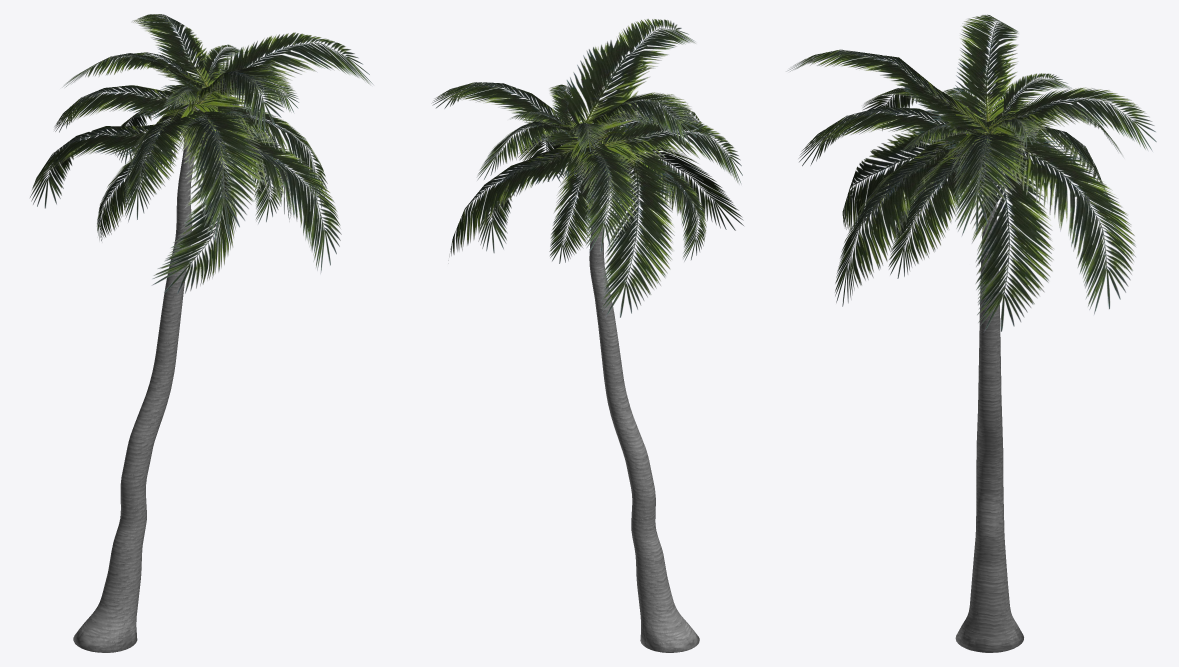
File: palm_tall.glb
3 views of the same model, side by side, from view 1: azimuth 30°, elevation 25°; view 2: azimuth 150°, elevation 25°; view 3: azimuth 270°, elevation 25° (orthographic). The views are drawn at different scales.
Visible parts, largest first — view 1: Cylinder001; view 2: Cylinder001; view 3: Cylinder001.
Boxes of the visible parts, left/top/right/bottom form: Cylinder001: left=29, top=14, right=373, bottom=652; Cylinder001: left=431, top=18, right=743, bottom=652; Cylinder001: left=786, top=14, right=1156, bottom=652.
Bounding box in the file's own units: 2.57 × 4.5 × 2.47.
2 materials, 2 textured.
